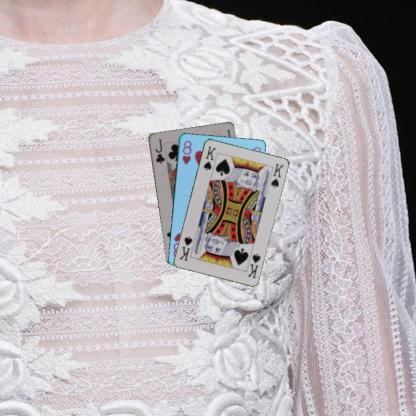8h: (180, 138, 192, 166)
Jc: (152, 136, 166, 165)
Ks: (200, 143, 218, 172), (245, 250, 262, 280)
